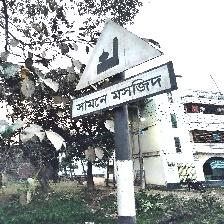Mosque in front: (71, 19, 178, 120)
